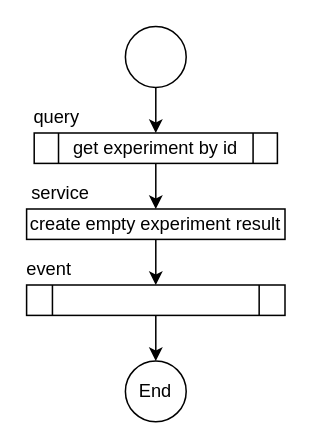
This 312x448 diagram has some shape labels left out. The centre of each missing label's shape, as x and y in pixels:
publish event - initialized: point (155, 299)
Start: point (155, 56)
